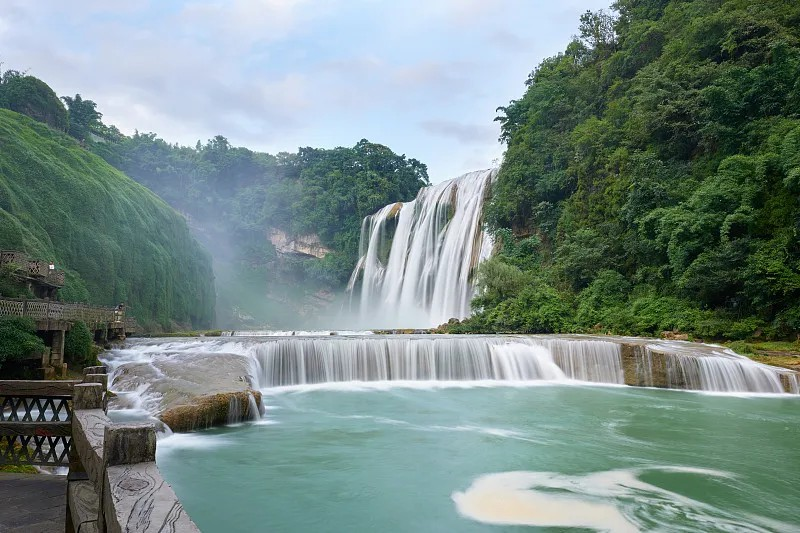Huangguoshu: (349, 169, 494, 330)
